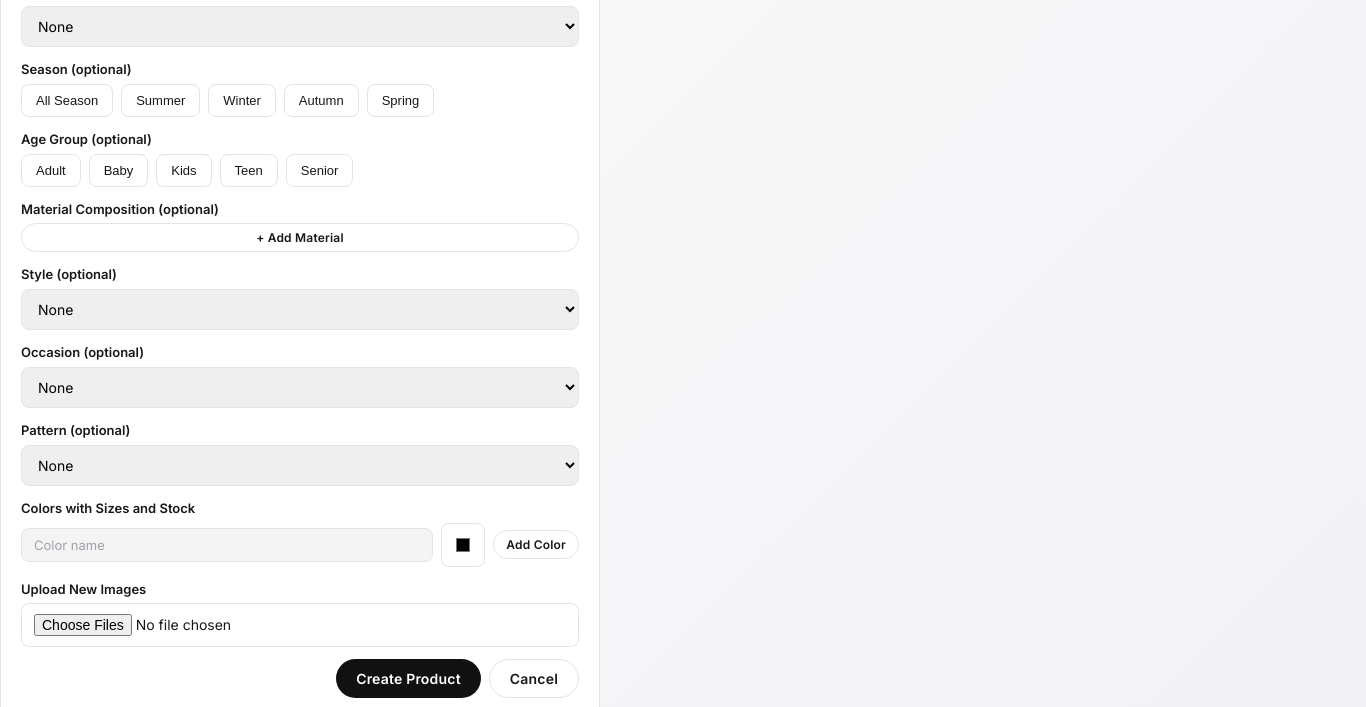
Test: AdminProductForm › Create Mode - Validation › should show error when color has no image
This screenshot has width=1366, height=707.
(page scrolled)
Type "Red" into the field with placeholder "Color name". click: (227, 544)
box: [21,528,433,562]
Click the button "Add Color". click: (536, 544)
box: [493,530,579,559]
(page scrolled)
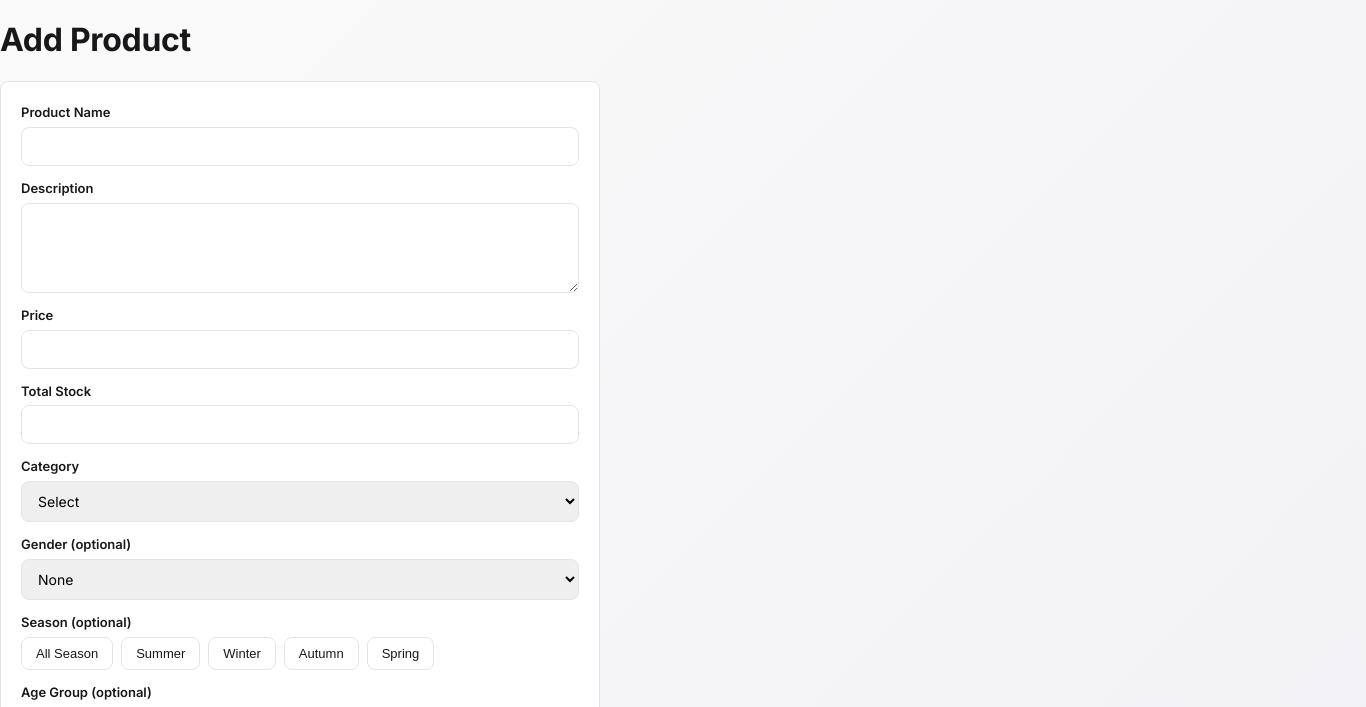
Type "Test Product" into the field. click: (300, 146)
box: [21,127,579,166]
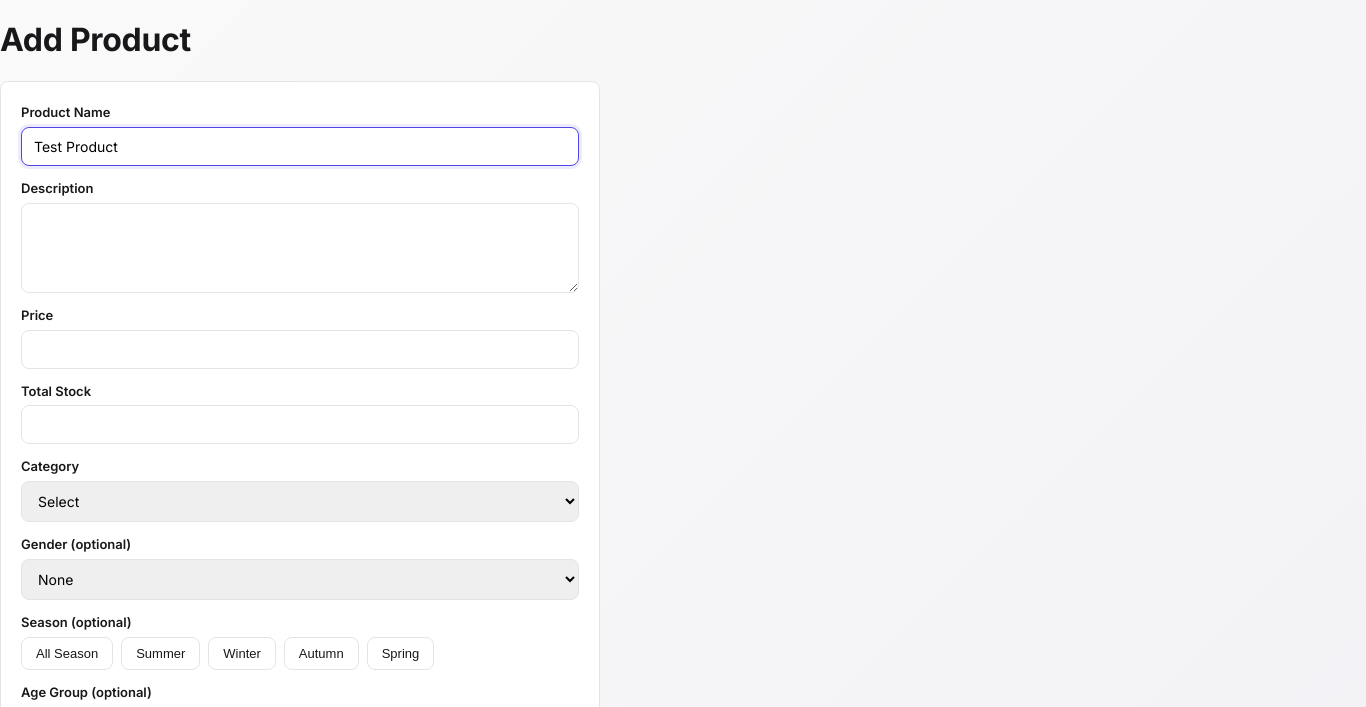
Type "100" into the number field below "Price". click: (300, 349)
box: [21,330,579,369]
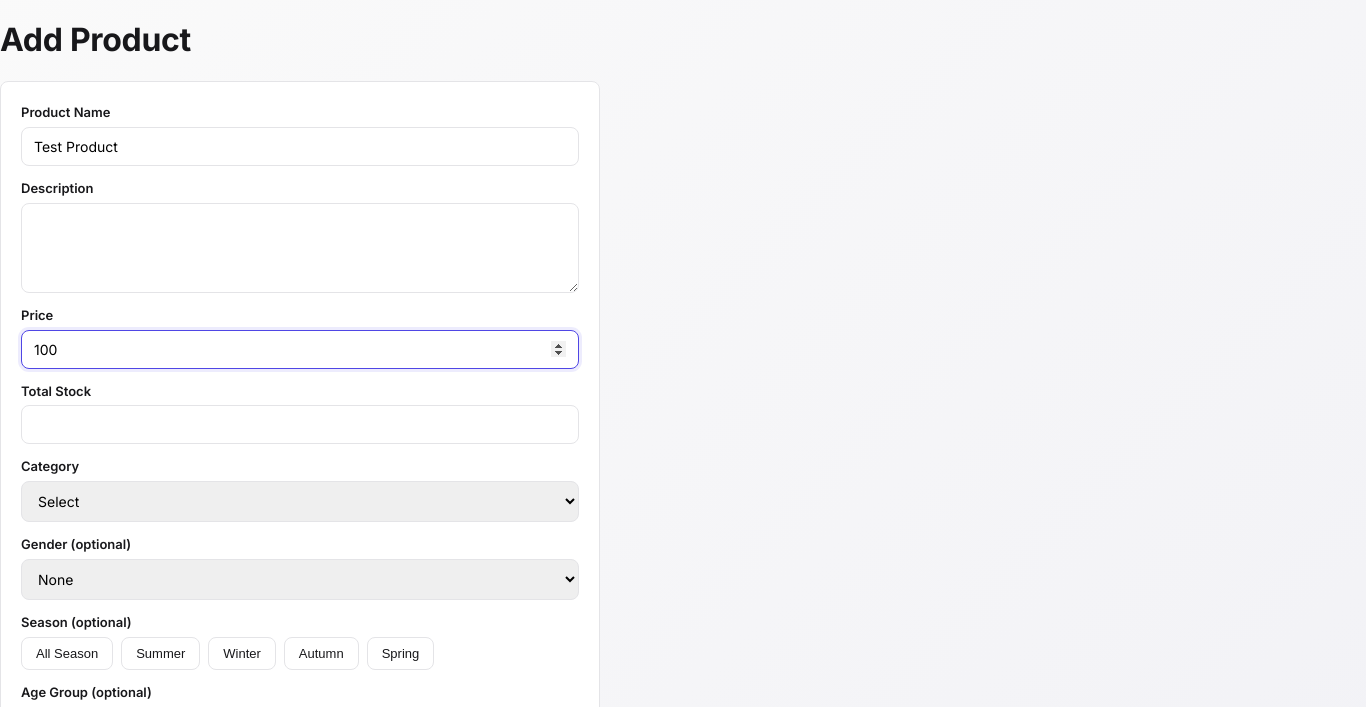
Type "10" into the number field below "Total Stock". click: (300, 425)
box: [21,405,579,444]
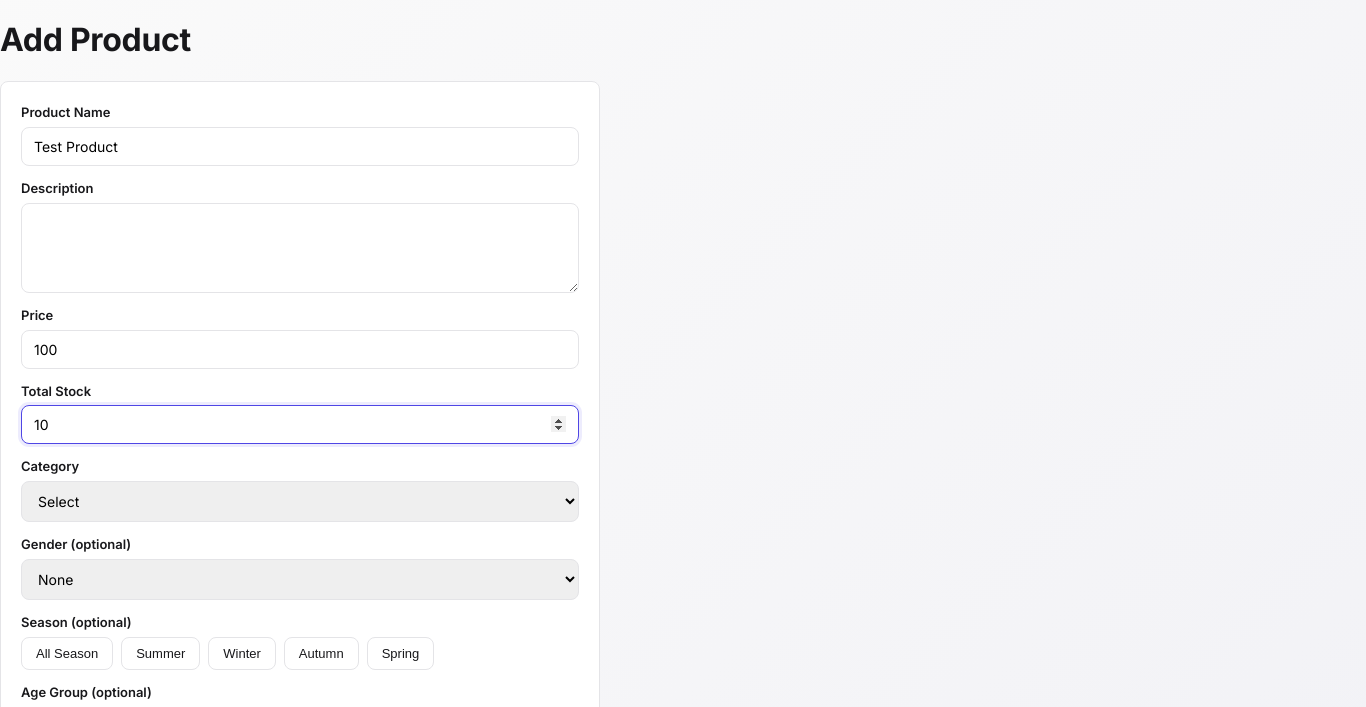
Select "Category 1" in the dropdown below "Category". click: (300, 502)
box: [21,481,579,522]
(page scrolled)
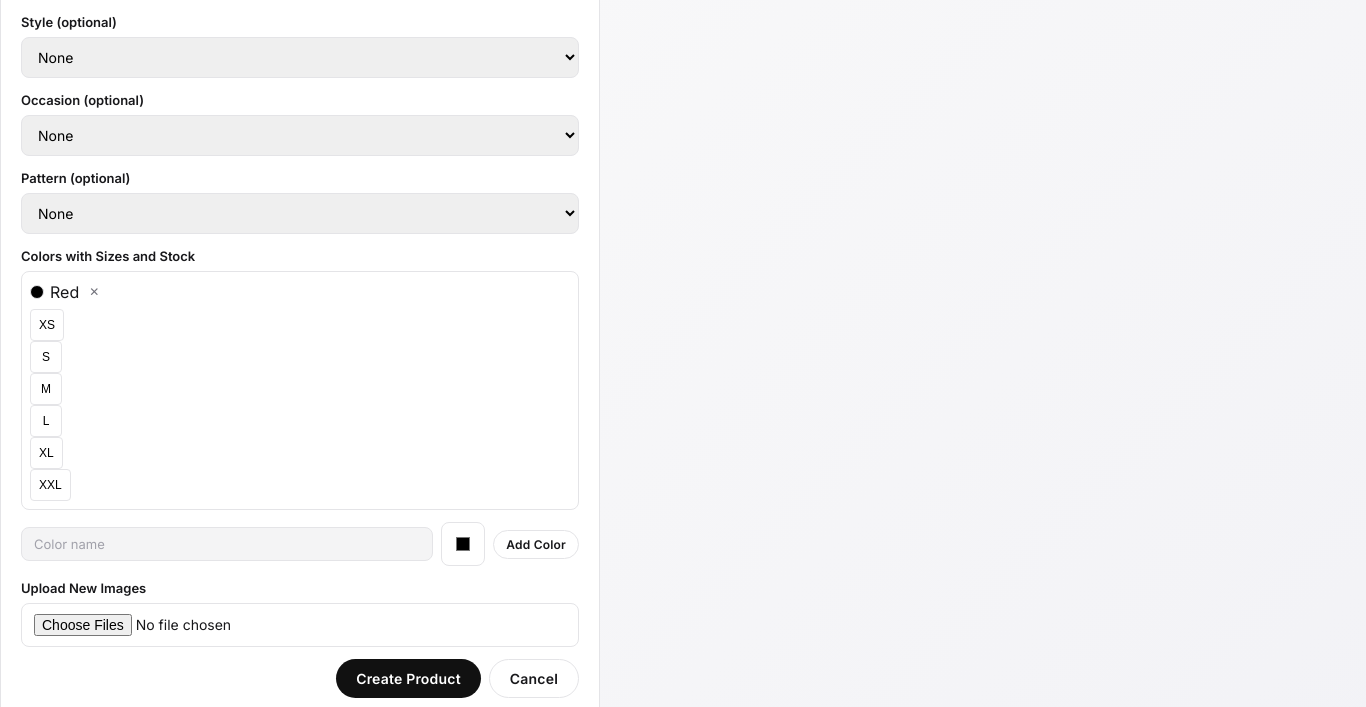
Click the button "Create Product". click: (408, 678)
box: [336,659,481,698]
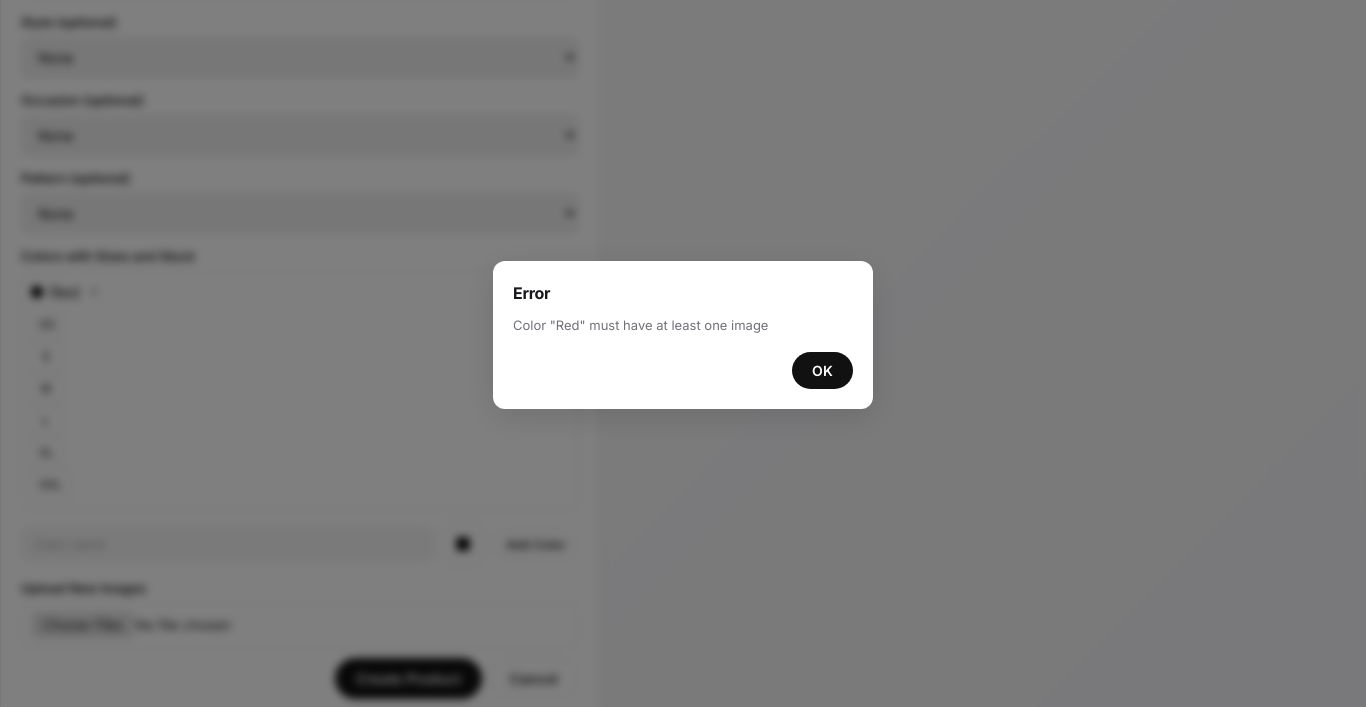
Expected: the text "Color \"Red\" must have at least one image" is shown, [513,317,768,333]
